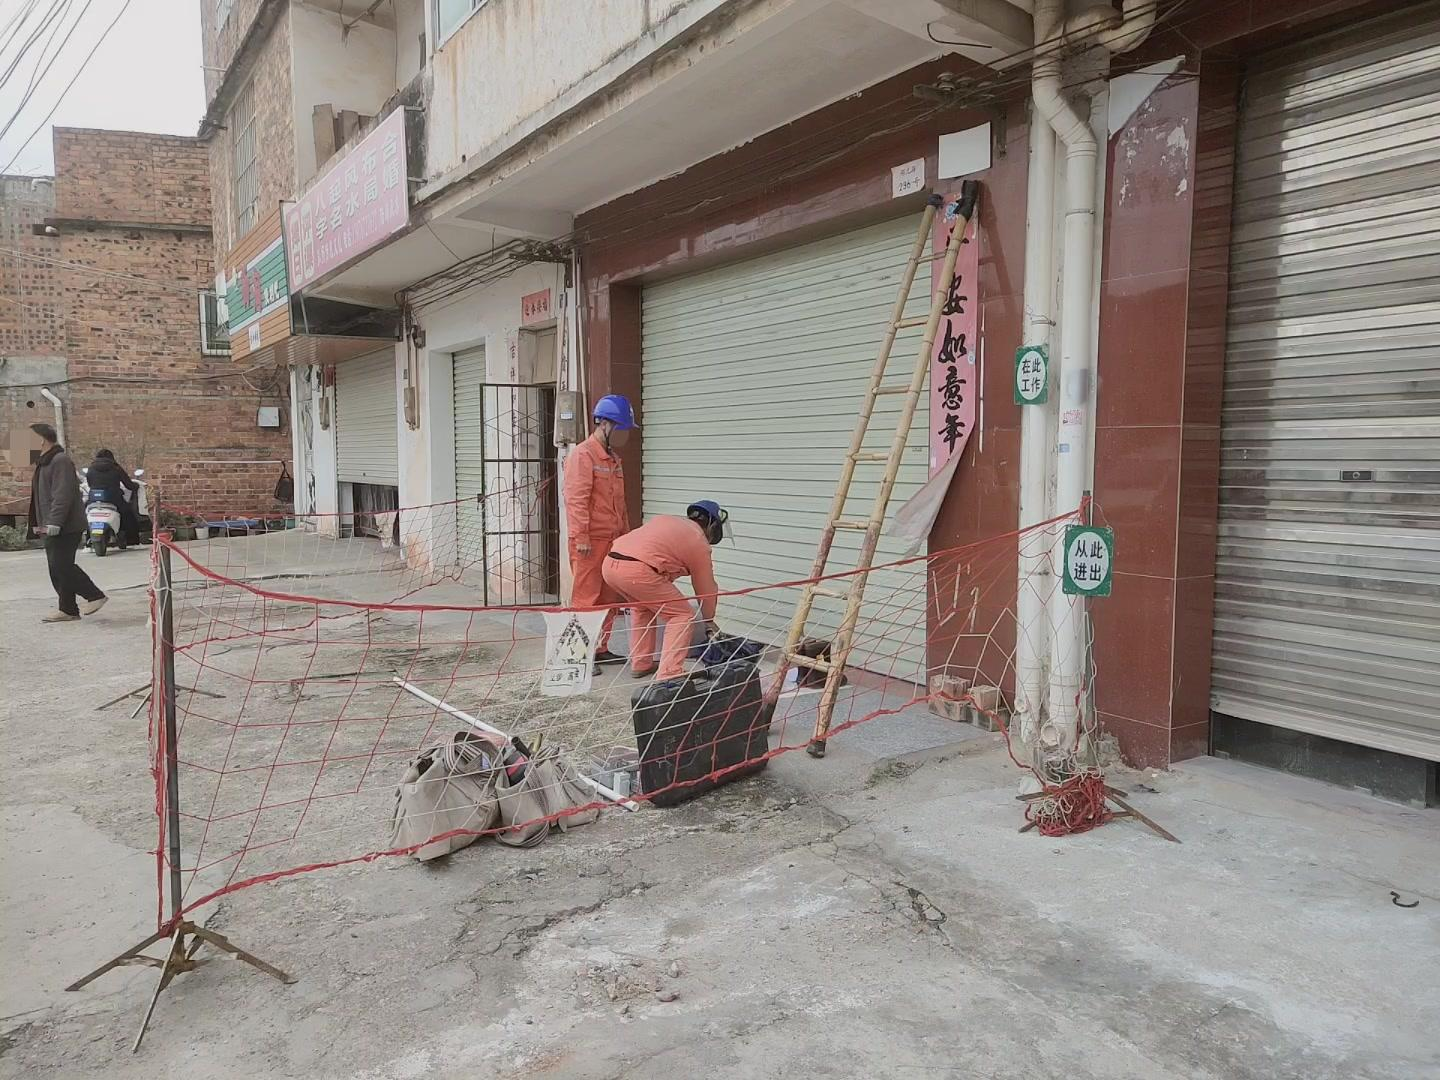halt: (593, 397, 637, 445), (686, 503, 727, 545)
unhalt: (32, 425, 63, 454)
